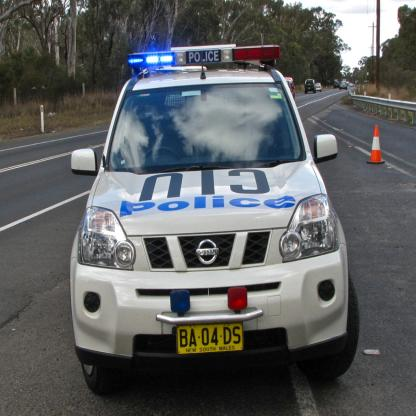Car: (71, 51, 362, 395)
